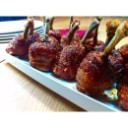chicken_lollipop: (80, 21, 126, 103), (59, 16, 98, 80), (28, 19, 56, 70), (9, 17, 33, 54)
